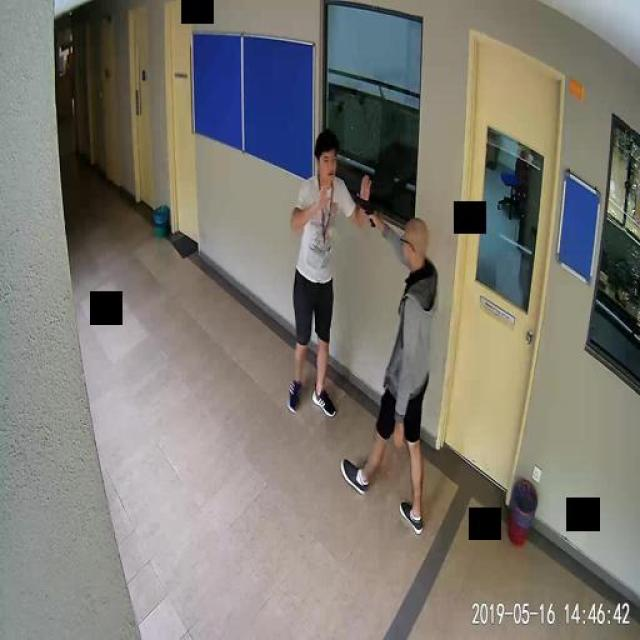gun: (354, 192, 375, 226)
